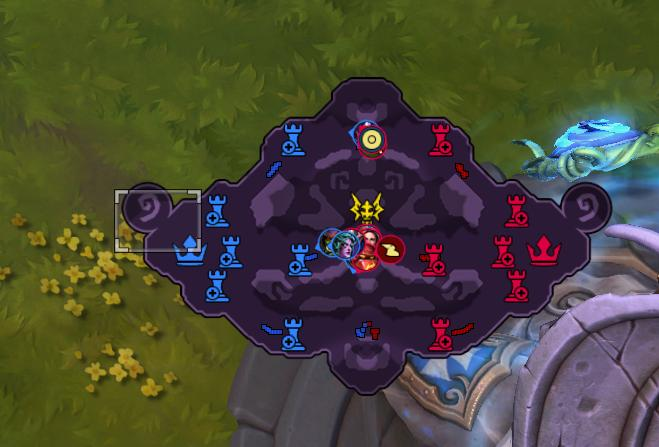blue nexus: (172, 233, 207, 265)
blue player: (329, 229, 359, 261), (316, 227, 341, 258)
blue tower: (279, 316, 306, 351), (286, 242, 313, 276), (280, 121, 306, 156), (204, 268, 230, 302), (204, 193, 229, 227), (218, 234, 243, 268)
red nexus: (525, 233, 562, 266)
red player: (354, 120, 387, 159), (375, 234, 405, 264), (354, 223, 381, 253), (351, 249, 380, 273), (356, 238, 379, 261)
red tower: (502, 193, 529, 227), (502, 268, 529, 302), (420, 242, 446, 276), (427, 122, 453, 156), (490, 235, 515, 269), (428, 317, 453, 351)
